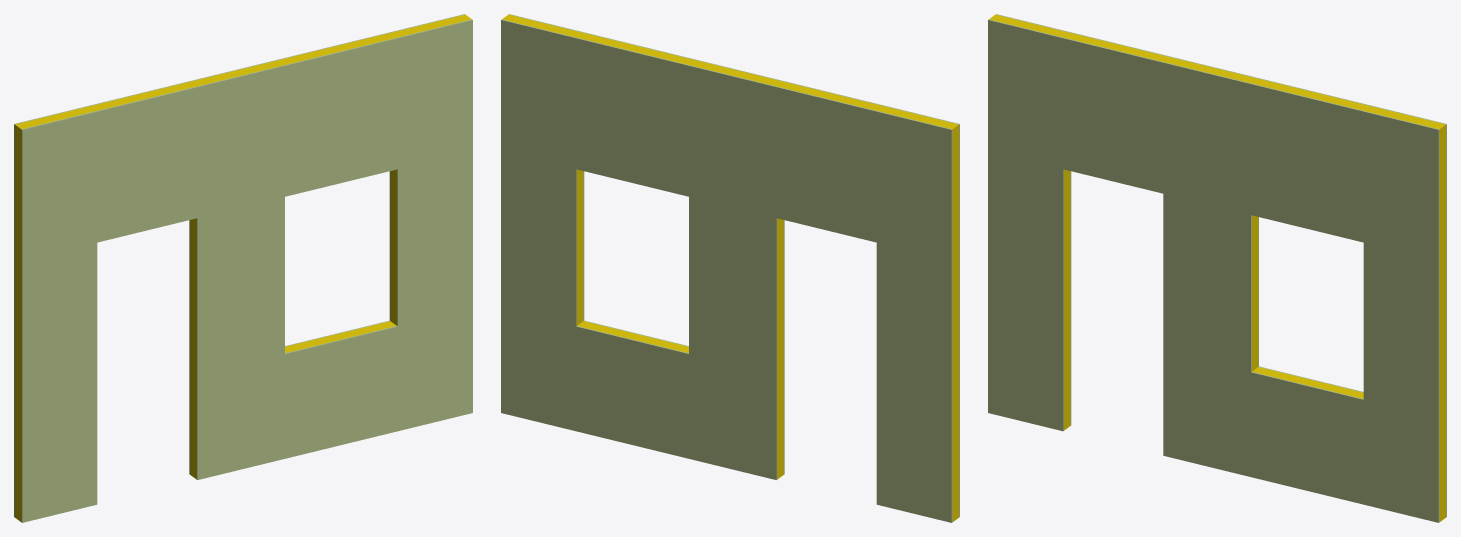
3 renders of one model, left to right at view 1: azimuth 30°, elevation 25°; view 2: azimuth 150°, elevation 25°; view 3: azimuth 330°, elevation 25°, orthographic.
Visible parts, largest first — view 1: 1dhqqYR5v9EPzs7Ts1dOEX, 0y81T5OQ921PKefugNkz2z, 3E4igxyD1F5w4vj3LTAREz, 3dca$PAJT1XA6b06dQW26g; view 2: 3dca$PAJT1XA6b06dQW26g, 0y81T5OQ921PKefugNkz2z, 3E4igxyD1F5w4vj3LTAREz, 1dhqqYR5v9EPzs7Ts1dOEX; view 3: 1dhqqYR5v9EPzs7Ts1dOEX, 0y81T5OQ921PKefugNkz2z, 3E4igxyD1F5w4vj3LTAREz, 3dca$PAJT1XA6b06dQW26g.
Boxes of the visible parts, x1,y1,x2,y2 form: 1dhqqYR5v9EPzs7Ts1dOEX: (21,19,472,522); 0y81T5OQ921PKefugNkz2z: (15,130,396,516); 3E4igxyD1F5w4vj3LTAREz: (15,14,471,521); 3dca$PAJT1XA6b06dQW26g: (14,14,464,517); 3dca$PAJT1XA6b06dQW26g: (501,19,952,522); 0y81T5OQ921PKefugNkz2z: (577,130,958,516); 3E4igxyD1F5w4vj3LTAREz: (502,14,958,521); 1dhqqYR5v9EPzs7Ts1dOEX: (509,14,959,517); 1dhqqYR5v9EPzs7Ts1dOEX: (988,19,1439,522); 0y81T5OQ921PKefugNkz2z: (1064,130,1445,516); 3E4igxyD1F5w4vj3LTAREz: (989,14,1445,521); 3dca$PAJT1XA6b06dQW26g: (996,14,1446,517).
Bounding box in the file's own units: 3.66 × 3.05 × 0.1143.
